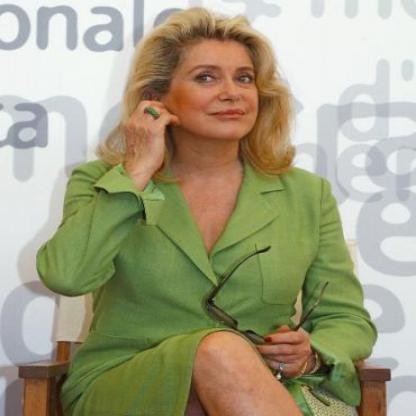face: (163, 22, 271, 146)
